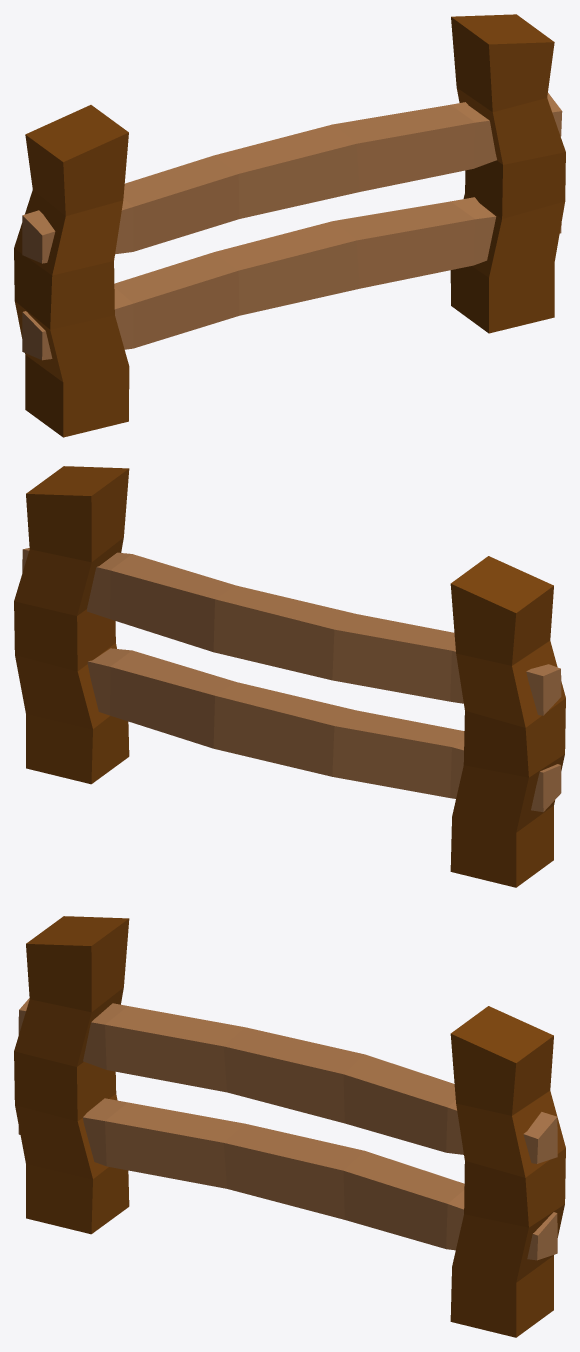
The model's file is cit1Duz.fbx.
3 views of the same model, one above another, from view 1: azimuth 30°, elevation 25°; view 2: azimuth 150°, elevation 25°; view 3: azimuth 330°, elevation 25° (orthographic).
Parts seen in each view (by area): view 1: BahceCitiİkili; view 2: BahceCitiİkili; view 3: BahceCitiİkili.
Boxes of the visible parts, x1,y1,x2,y2 form: BahceCitiİkili: (14,14,565,437); BahceCitiİkili: (14,466,565,887); BahceCitiİkili: (14,916,565,1337).
Size of the model in its own units: 199 by 105 by 26.16.
